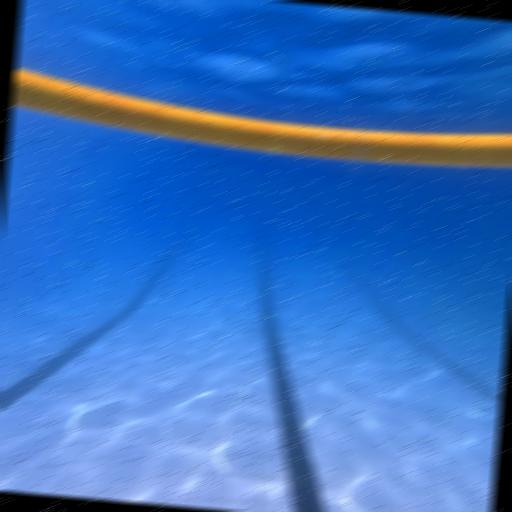upper_gate: (8, 66, 512, 173)
